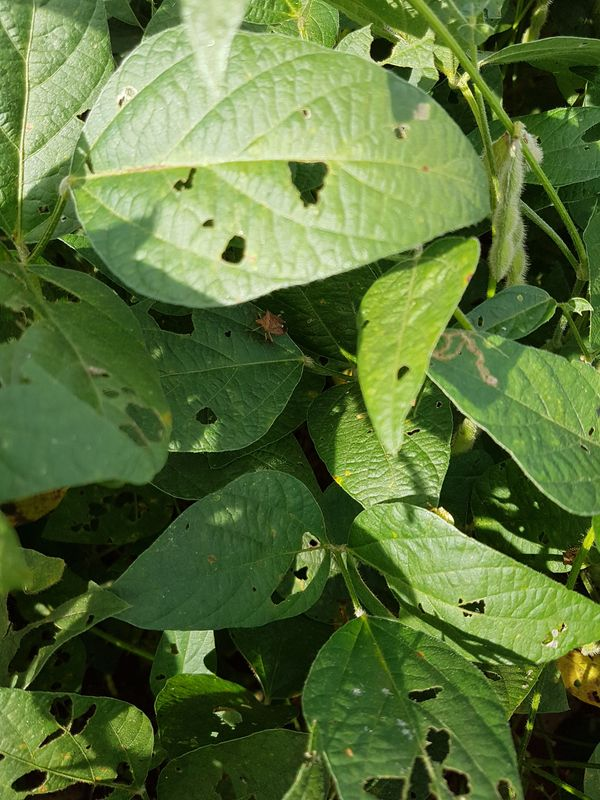Euschistus_heros_adulto: (241, 300, 299, 353)
